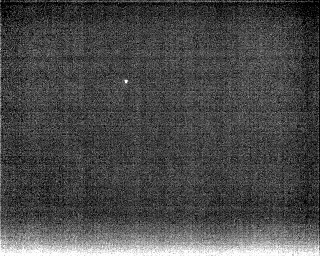BIRD: (122, 77, 130, 86)
